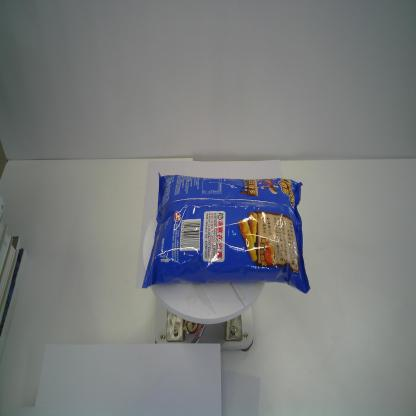Puffed Food: (141, 171, 311, 294)
